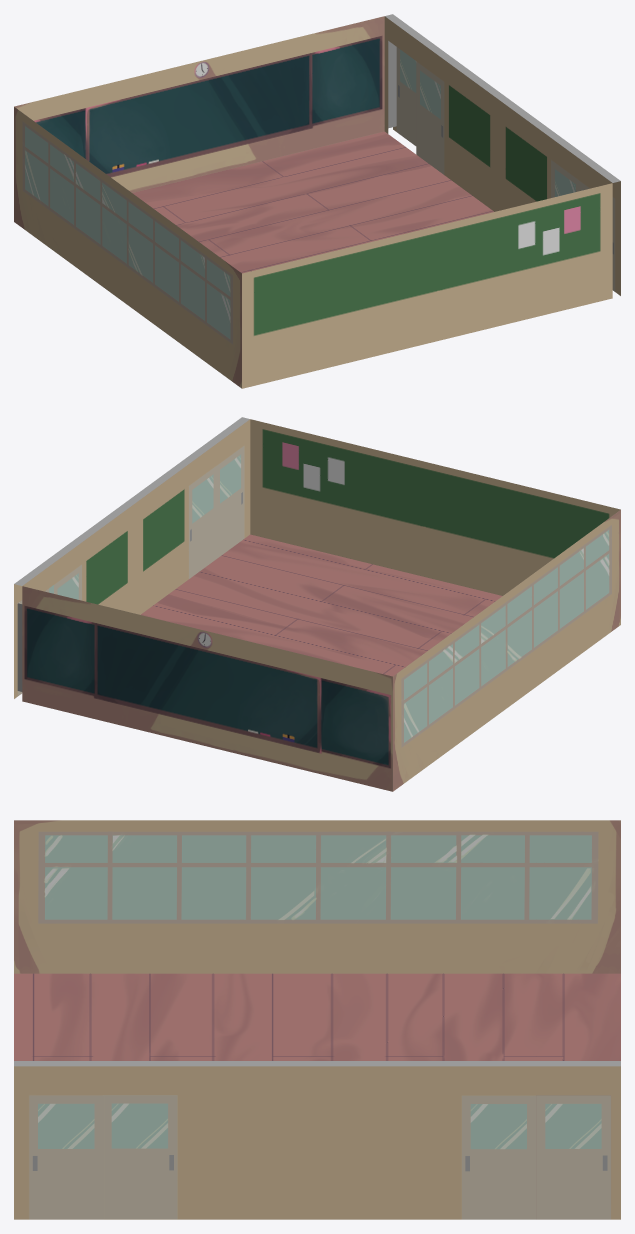
Rendered from kyusitu_1.fbx.
3 renders of one model, top to bottom at view 1: azimuth 30°, elevation 25°; view 2: azimuth 150°, elevation 25°; view 3: azimuth 270°, elevation 25°, orthographic. The views are drawn at different scales.
Parts seen in each view (by area): view 1: polySurface2, dore; view 2: polySurface2; view 3: polySurface2, dore.
Part boxes in pixels (x1,y1,x2,y2): polySurface2: (14, 14, 620, 388); dore: (396, 47, 416, 145); polySurface2: (14, 417, 620, 791); polySurface2: (14, 820, 620, 1219); dore: (536, 1095, 610, 1219).
Bounding box in the file's own units: 23.39 × 6.8 × 24.39.
